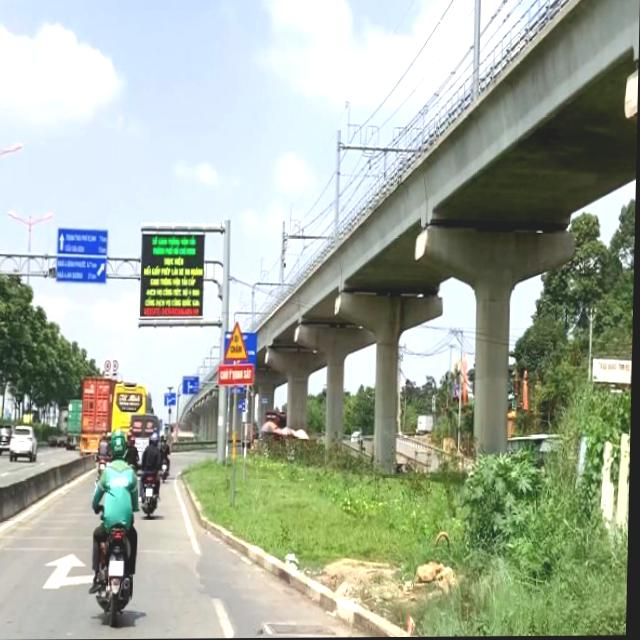Di cham: (224, 320, 253, 363)
